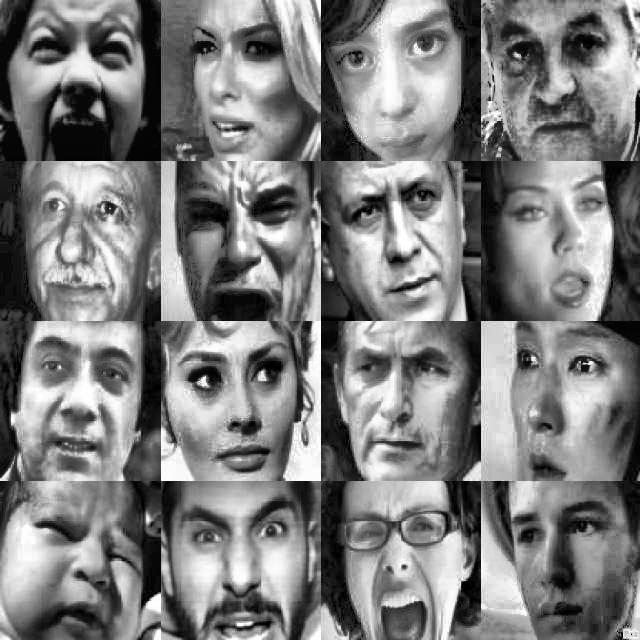angry: (315, 173, 459, 307), (175, 6, 307, 149), (18, 498, 152, 636), (168, 507, 308, 636), (343, 343, 463, 477), (345, 511, 465, 640)
fear: (497, 320, 633, 478), (5, 10, 151, 153), (172, 167, 308, 316)
happy: (19, 171, 139, 313)
neutral: (474, 17, 636, 154), (503, 166, 623, 310), (27, 333, 139, 479), (175, 335, 297, 467)
sad: (318, 20, 470, 157), (495, 497, 637, 640)
